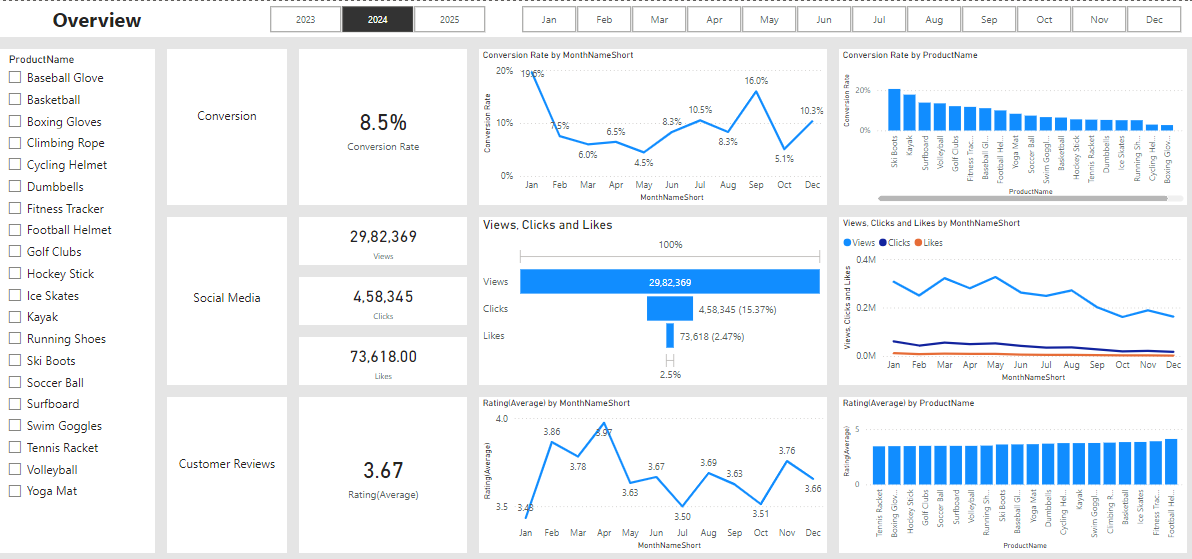

The dashboard page shown, as its layout file describes it:
{"tool":"powerbi","page":{"name":"Overview","canvas":[1600,750],"ordinal":0},"visuals":[{"type":"textbox","box":[0,0,1632,48],"z":0},{"type":"slicer","fields":{"Values":["dim_products.ProductName"]},"box":[0,64,208,672],"z":1000},{"type":"textbox","box":[224,64,160,208],"z":2000},{"type":"textbox","box":[224,288,160,224],"z":3000},{"type":"textbox","box":[224,528,160,208],"z":4000},{"type":"card","fields":{"Values":["Calculations.Conversion Rate"]},"box":[400,64,224,208],"z":5000},{"type":"card","fields":{"Values":["Calculations.Views"]},"box":[400,288,224,64],"z":6000},{"type":"card","fields":{"Values":["Calculations.Clicks"]},"box":[400,368,224,64],"z":7000},{"type":"card","fields":{"Values":["Calculations.Likes"]},"box":[400,448,224,64],"z":8000},{"type":"card","fields":{"Values":["Calculations.Rating(Average)"]},"box":[400,528,224,208],"z":9000},{"type":"slicer","fields":{"Values":["Calendar.Year"]},"box":[336,0,336,48],"z":10000},{"type":"slicer","fields":{"Values":["Calendar.MonthNameShort"]},"box":[672,0,928,48],"z":11000},{"type":"lineChart","fields":{"Y":["Calculations.Conversion Rate"],"Category":["Calendar.MonthNameShort"]},"box":[640,64,464,208],"z":12000},{"type":"columnChart","fields":{"Y":["Calculations.Conversion Rate"],"Category":["dim_products.ProductName"]},"box":[1120,64,464,208],"z":13000},{"type":"lineChart","fields":{"Category":["Calendar.MonthNameShort"],"Y":["Calculations.Views","Calculations.Clicks","Calculations.Likes"]},"box":[1120,288,464,224],"z":14000},{"type":"funnel","fields":{"Y":["Calculations.Views","Calculations.Clicks","Calculations.Likes"]},"box":[640,288,464,224],"z":15000},{"type":"lineChart","fields":{"Y":["Calculations.Rating(Average)"],"Category":["Calendar.MonthNameShort"]},"box":[640,528,464,208],"z":16000},{"type":"columnChart","fields":{"Category":["dim_products.ProductName"],"Y":["Calculations.Rating(Average)"]},"box":[1120,528,464,208],"z":17000}]}

Visuals, with their boxes in screenshot pixels (x1, y1, x2, y2), scaled from the page's 1600x750 canvas onto the 1192x559 screenshot:
textbox: (0,0,1191,36)
slicer - dim_products.ProductName: (0,48,155,549)
textbox: (167,48,286,203)
textbox: (167,215,286,382)
textbox: (167,394,286,549)
card - Calculations.Conversion Rate: (298,48,465,203)
card - Calculations.Views: (298,215,465,262)
card - Calculations.Clicks: (298,274,465,322)
card - Calculations.Likes: (298,334,465,382)
card - Calculations.Rating(Average): (298,394,465,549)
slicer - Calendar.Year: (250,0,501,36)
slicer - Calendar.MonthNameShort: (501,0,1191,36)
lineChart - Calculations.Conversion Rate x Calendar.MonthNameShort: (477,48,822,203)
columnChart - Calculations.Conversion Rate x dim_products.ProductName: (834,48,1180,203)
lineChart - Calendar.MonthNameShort x Calculations.Views: (834,215,1180,382)
funnel - Calculations.Views x Calculations.Clicks: (477,215,822,382)
lineChart - Calculations.Rating(Average) x Calendar.MonthNameShort: (477,394,822,549)
columnChart - dim_products.ProductName x Calculations.Rating(Average): (834,394,1180,549)
